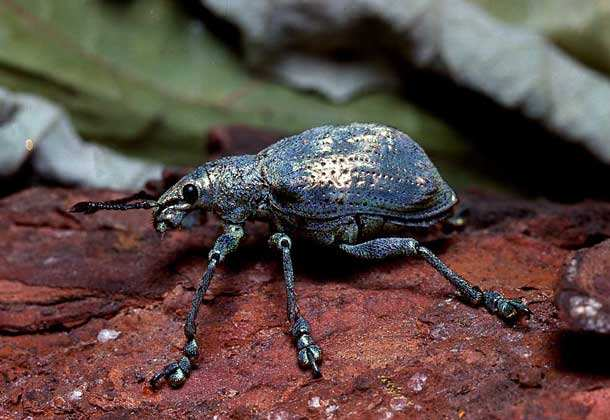dolgonosik: (68, 120, 539, 394)
